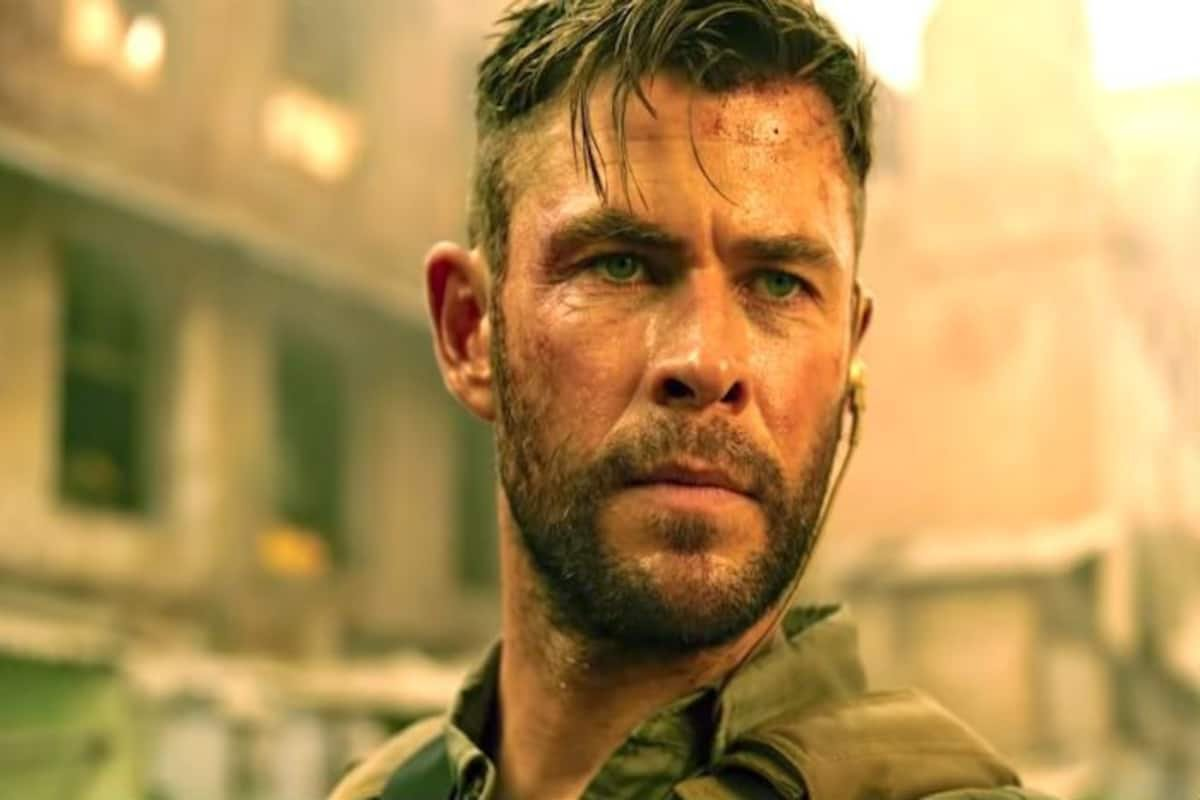noMask: (417, 5, 966, 643)
